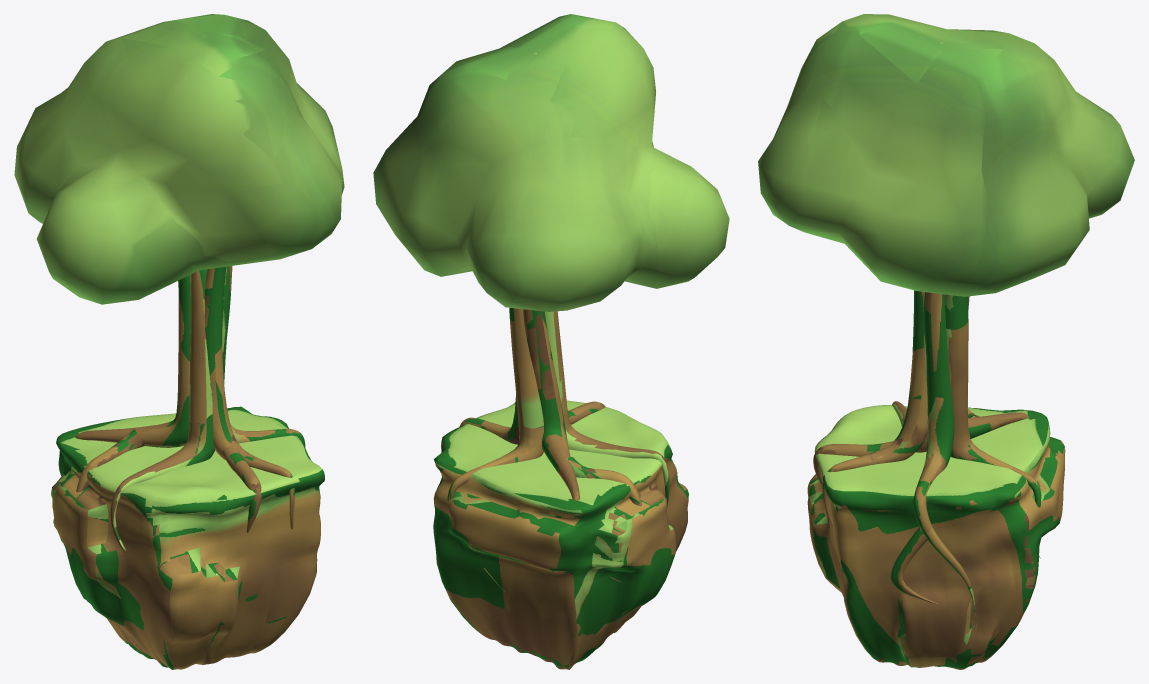
File: FLOATtree1.fbx
3 renders of one model, left to right at view 1: azimuth 30°, elevation 25°; view 2: azimuth 150°, elevation 25°; view 3: azimuth 270°, elevation 25°, orthographic. The views are drawn at different scales.
Visible parts, largest first — view 1: Mball.014, Plane.002, Plane.003; view 2: Mball.014, Plane.002, Plane.003; view 3: Mball.014, Plane.002, Plane.003.
Part boxes in pixels (left/top/right/bottom): Mball.014: left=14, top=14, right=344, bottom=304; Plane.002: left=51, top=406, right=324, bottom=669; Plane.003: left=75, top=266, right=305, bottom=552; Mball.014: left=373, top=14, right=729, bottom=311; Plane.002: left=433, top=400, right=688, bottom=669; Plane.003: left=447, top=308, right=669, bottom=591; Mball.014: left=758, top=14, right=1134, bottom=296; Plane.002: left=807, top=405, right=1065, bottom=669; Plane.003: left=813, top=290, right=1041, bottom=641.
Size of the model in its own units: 1138 by 2142 by 1156.
2 materials, 2 textured.
